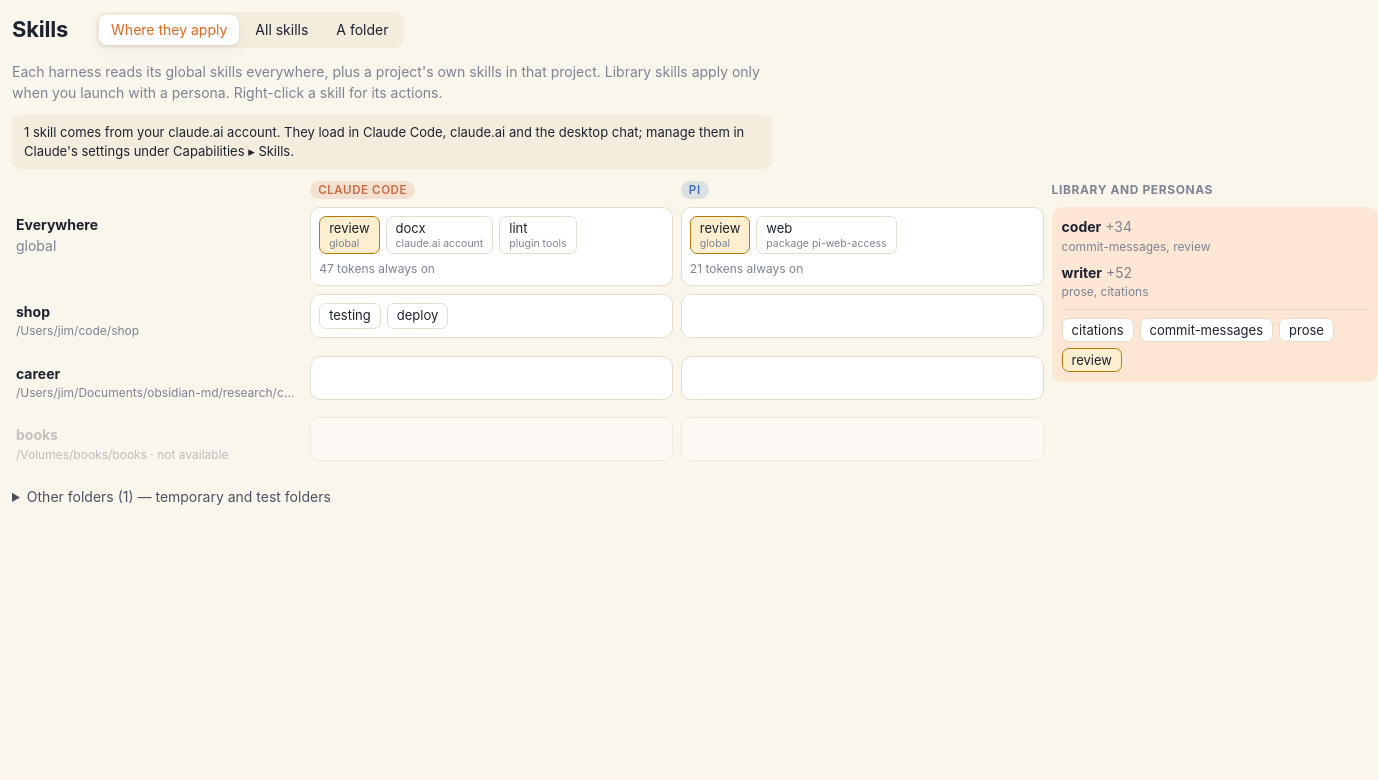
Test: Skills › filters the inventory by search, source and duplicates
Click the tab "All skills" at x=282, y=30, box x1=243 y1=15 x2=320 y2=45
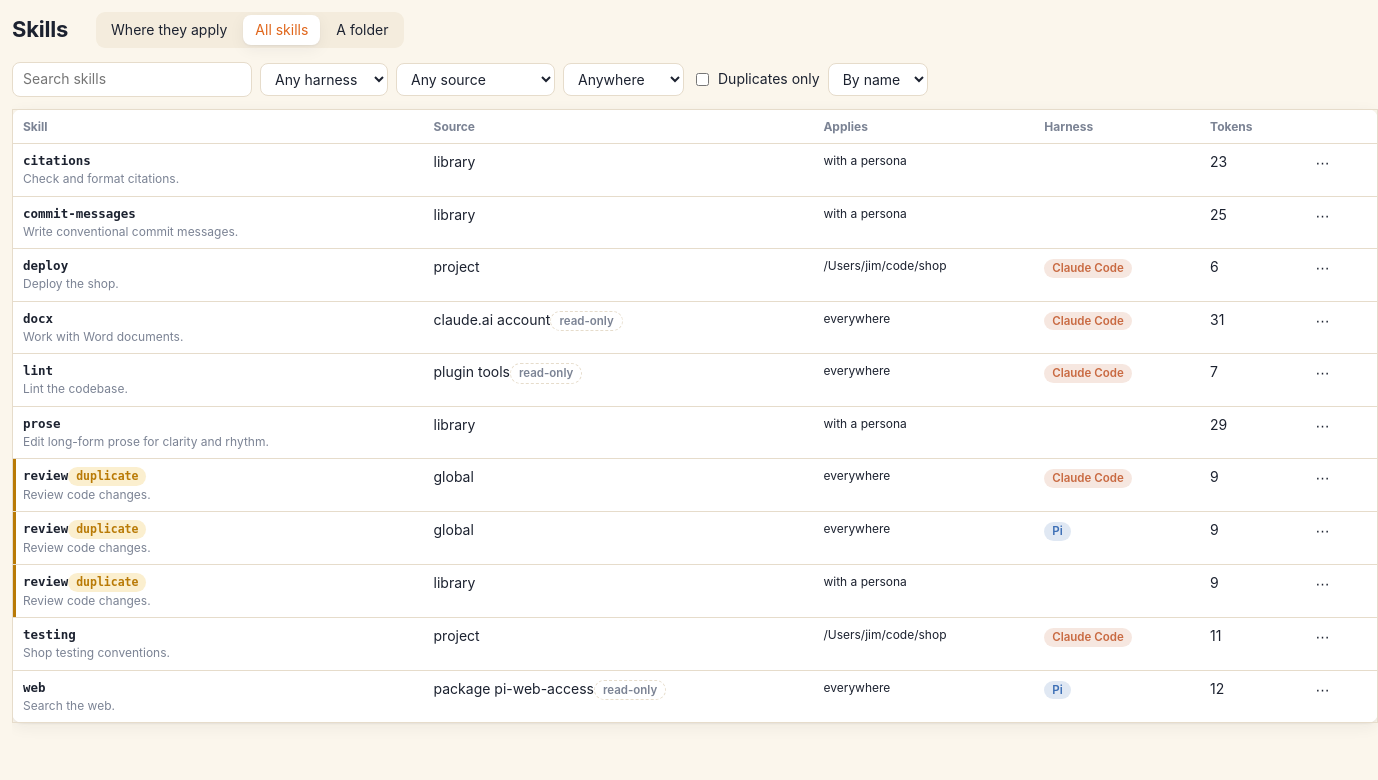
Check: the number of rows with test id "inv-row" is 11
Click the checkbox labelled "Duplicates only" at x=702, y=79, box x1=696 y1=73 x2=709 y2=86
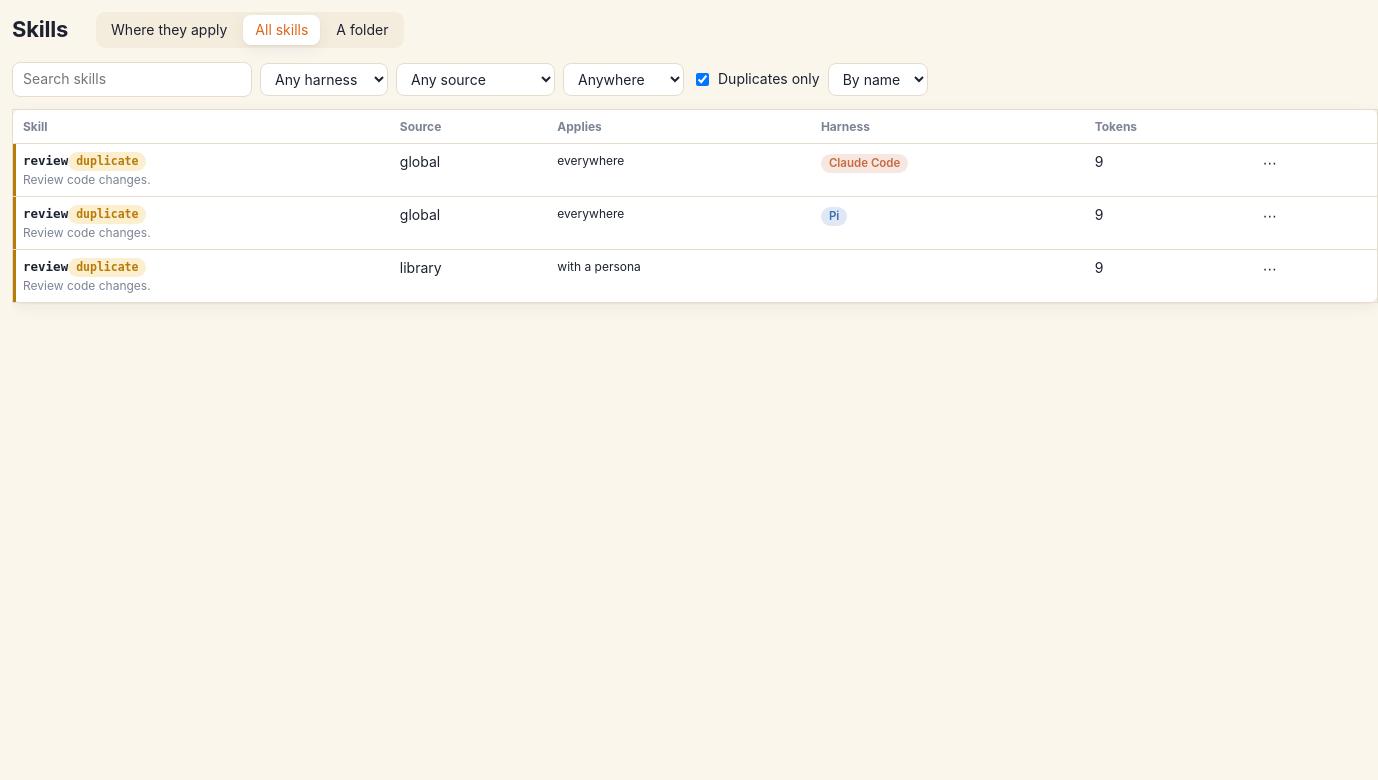
Check: the number of rows with test id "inv-row" is 3, box x1=12 y1=144 x2=1377 y2=197; x1=12 y1=196 x2=1377 y2=250; x1=12 y1=250 x2=1377 y2=303
Click the checkbox labelled "Duplicates only" at x=702, y=79, box x1=696 y1=73 x2=709 y2=86
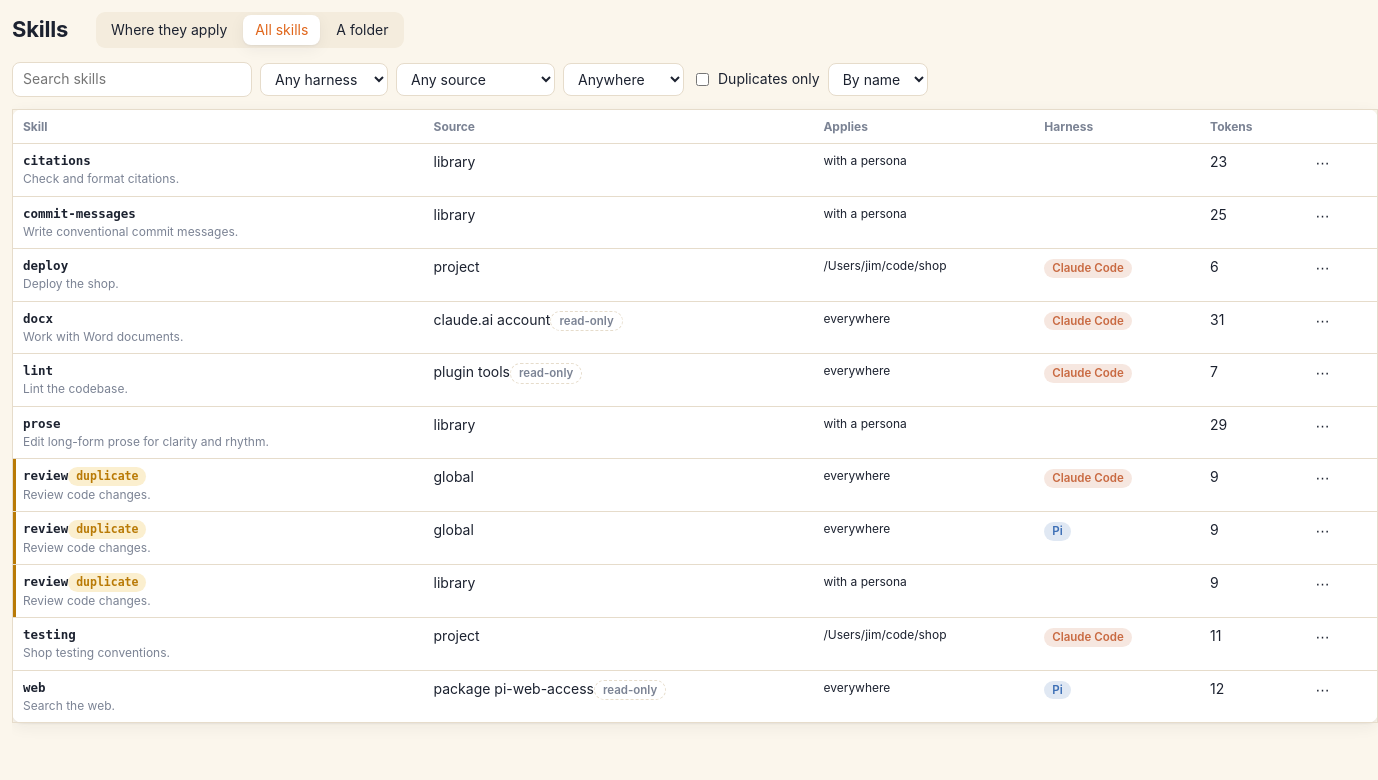
Select "Library" in the dropdown named "Source" at x=476, y=79, box x1=396 y1=63 x2=555 y2=96
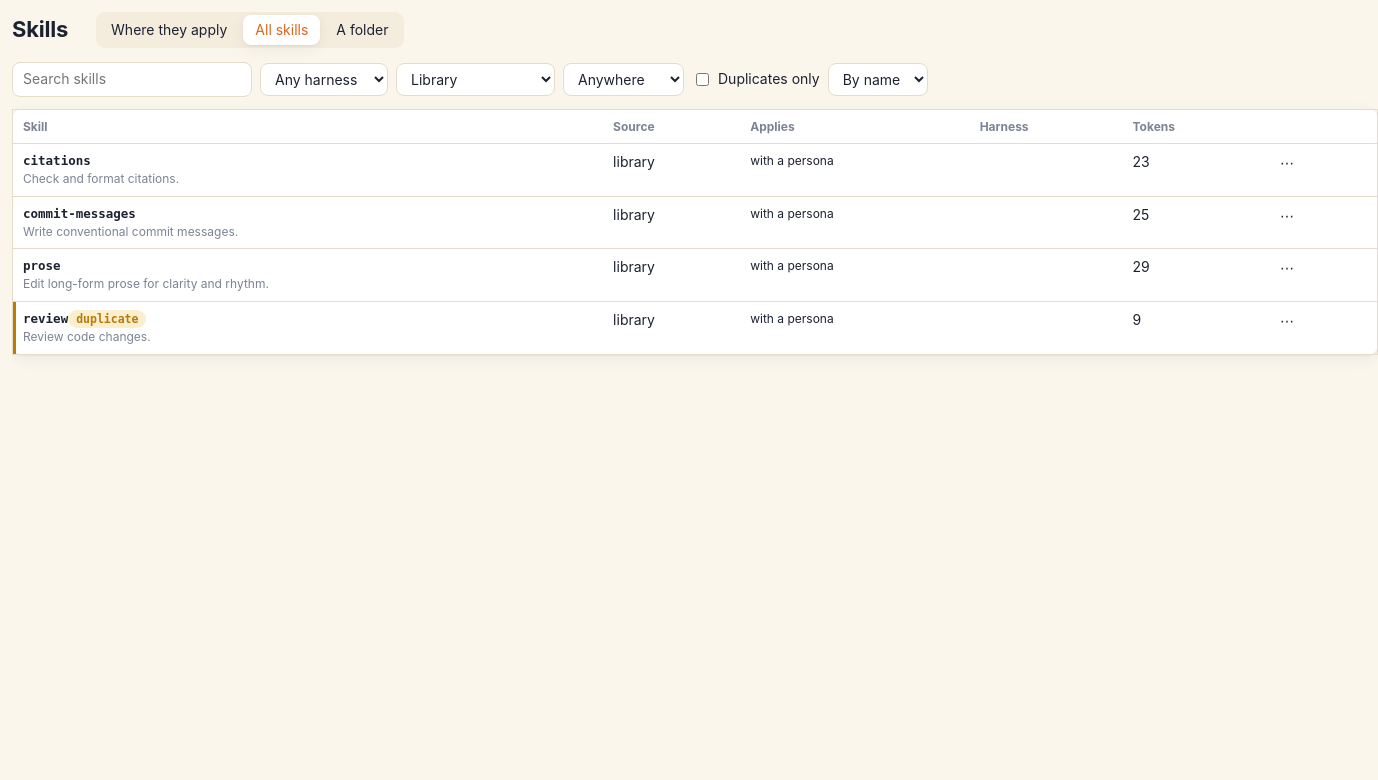
Check: the number of rows with test id "inv-row" is 4, box x1=12 y1=144 x2=1377 y2=196; x1=12 y1=196 x2=1377 y2=248; x1=12 y1=248 x2=1377 y2=301; x1=12 y1=301 x2=1377 y2=354
Type "prose" into the search field labelled "Search skills" at x=132, y=79, box x1=12 y1=62 x2=252 y2=97
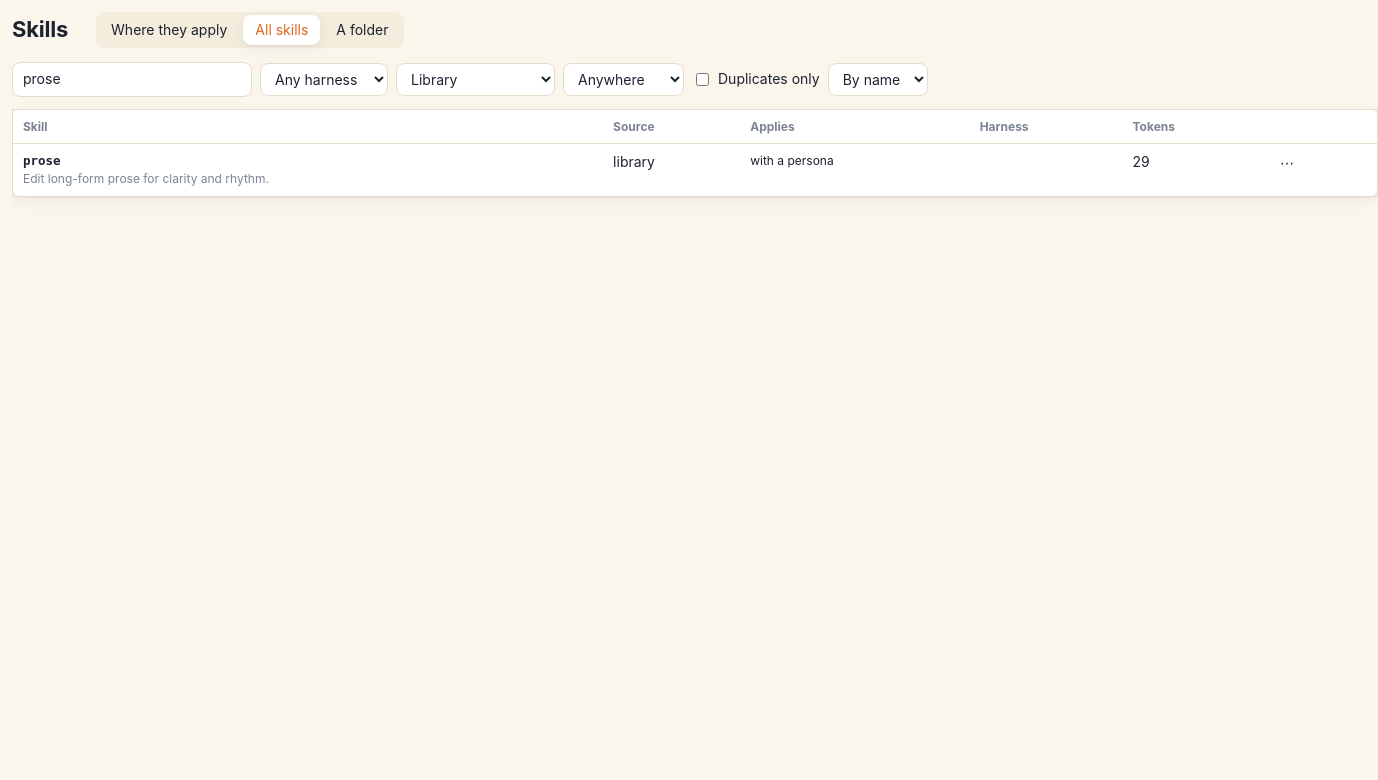
Check: the number of rows with test id "inv-row" is 1, box x1=12 y1=144 x2=1377 y2=196
